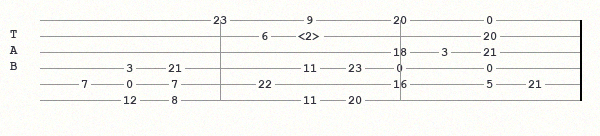0: (126, 78, 137, 90), (396, 62, 407, 74), (486, 62, 497, 74), (486, 14, 497, 26)
11: (303, 62, 321, 74), (303, 94, 321, 106)
12: (123, 94, 141, 106)
16: (393, 78, 411, 90)
18: (393, 46, 411, 58)
20: (348, 94, 366, 106), (393, 14, 411, 26), (483, 30, 501, 42)
21: (168, 62, 186, 74), (483, 46, 501, 58), (528, 78, 546, 90)
22: (258, 78, 276, 90)
23: (213, 14, 231, 26), (348, 62, 366, 74)
3: (126, 62, 137, 74), (441, 46, 452, 58)
5: (486, 78, 497, 90)
6: (261, 30, 272, 42)
7: (81, 78, 92, 90), (171, 78, 182, 90)
8: (171, 94, 182, 106)
9: (306, 14, 317, 26)
harmonic: (298, 30, 325, 42)
